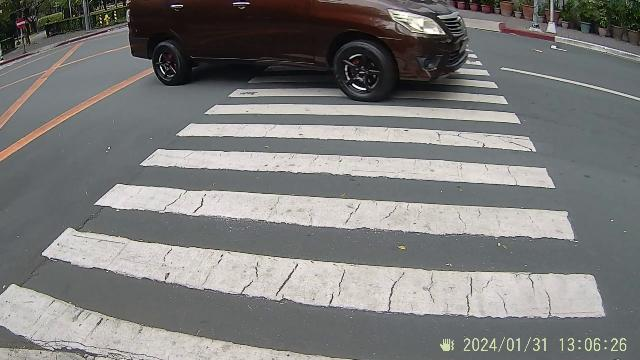car: (128, 2, 484, 99)
potted_plant: (576, 1, 598, 38), (594, 0, 612, 38)
utility_post: (545, 1, 559, 35), (530, 0, 542, 34)
